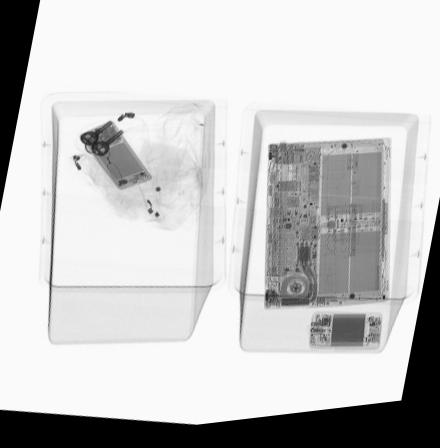Powerbank: (310, 316, 383, 358)
